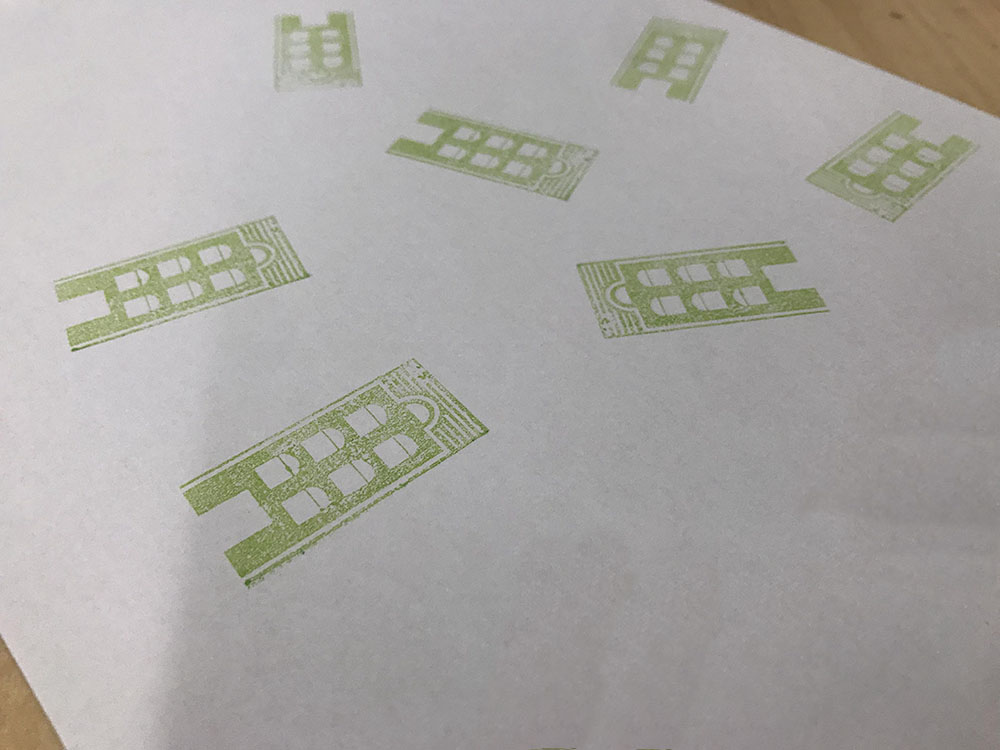build: (171, 343, 505, 606), (13, 201, 341, 365), (558, 229, 845, 345), (780, 87, 1000, 237), (373, 98, 612, 220), (601, 5, 744, 119), (256, 7, 389, 106)
